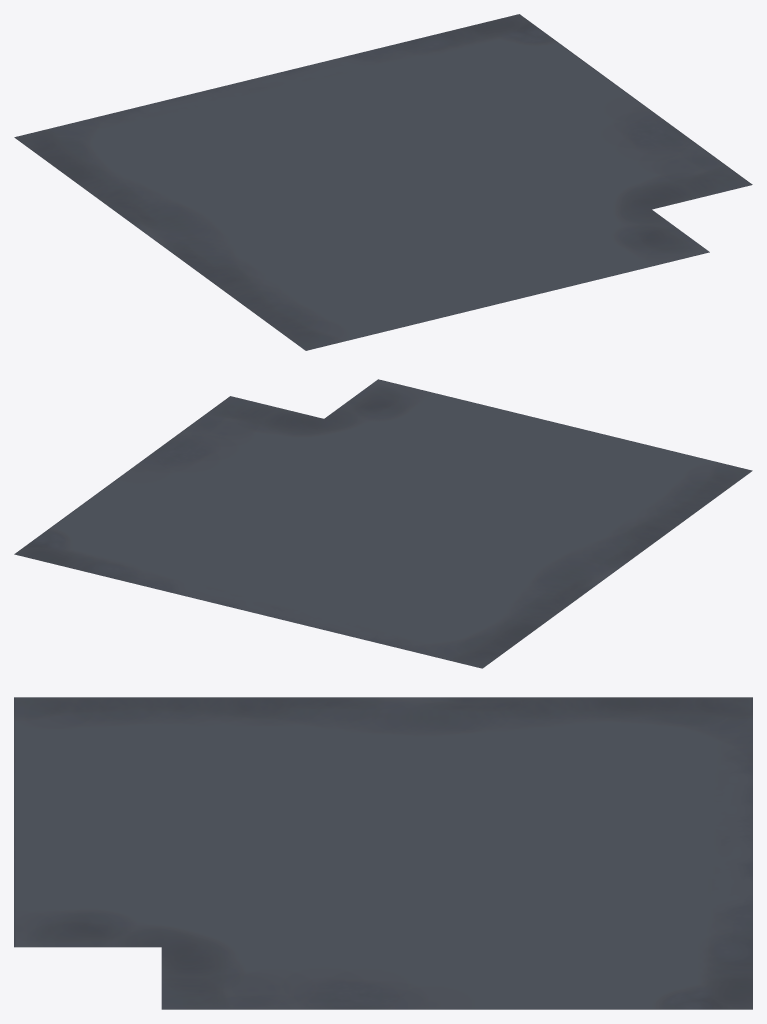
File: road-corner-01.glb
3 renders of one model, top to bottom at view 1: azimuth 30°, elevation 25°; view 2: azimuth 150°, elevation 25°; view 3: azimuth 270°, elevation 25°, orthographic. The views are drawn at different scales.
Parts seen in each view (by area): view 1: road-corner-01; view 2: road-corner-01; view 3: road-corner-01.
Boxes of the visible parts, x1,y1,x2,y2 form: road-corner-01: (14,14,752,350); road-corner-01: (14,379,752,668); road-corner-01: (14,697,752,1009).
Size of the model in its own units: 20 by 0 by 20.
1 material, 1 textured.
